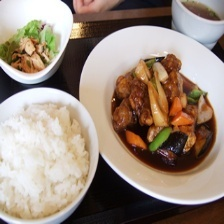rice: (1, 99, 91, 220)
